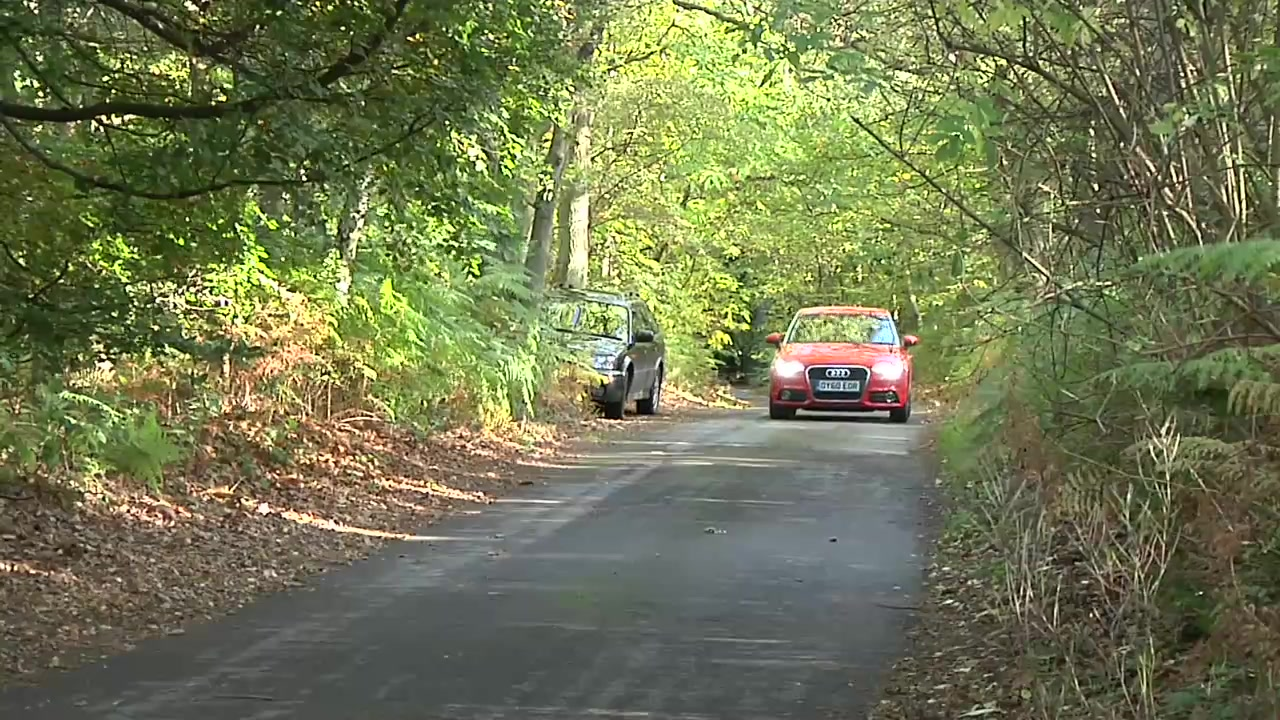car: (761, 306, 921, 419)
